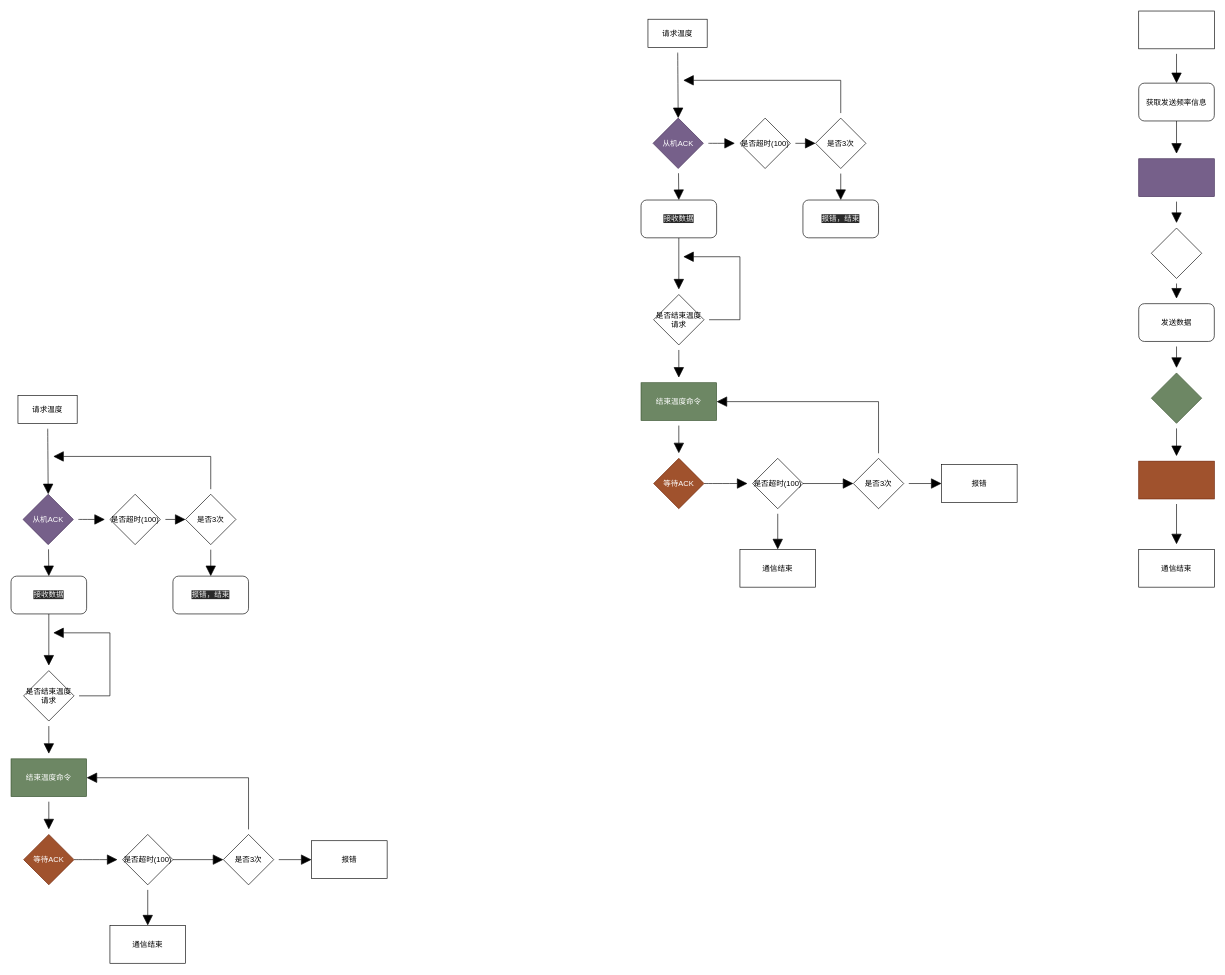
Image size: 1225x975. Some labels were removed from this diagram. Each missing label, with the centre of its shape:
发送ACK: pixel 1176 480
接收到温度请求的命令: pixel 1176 29
等待50ms: pixel 1176 252
等待结束温度请求指令: pixel 1176 397
返回ACK: pixel 1176 177
